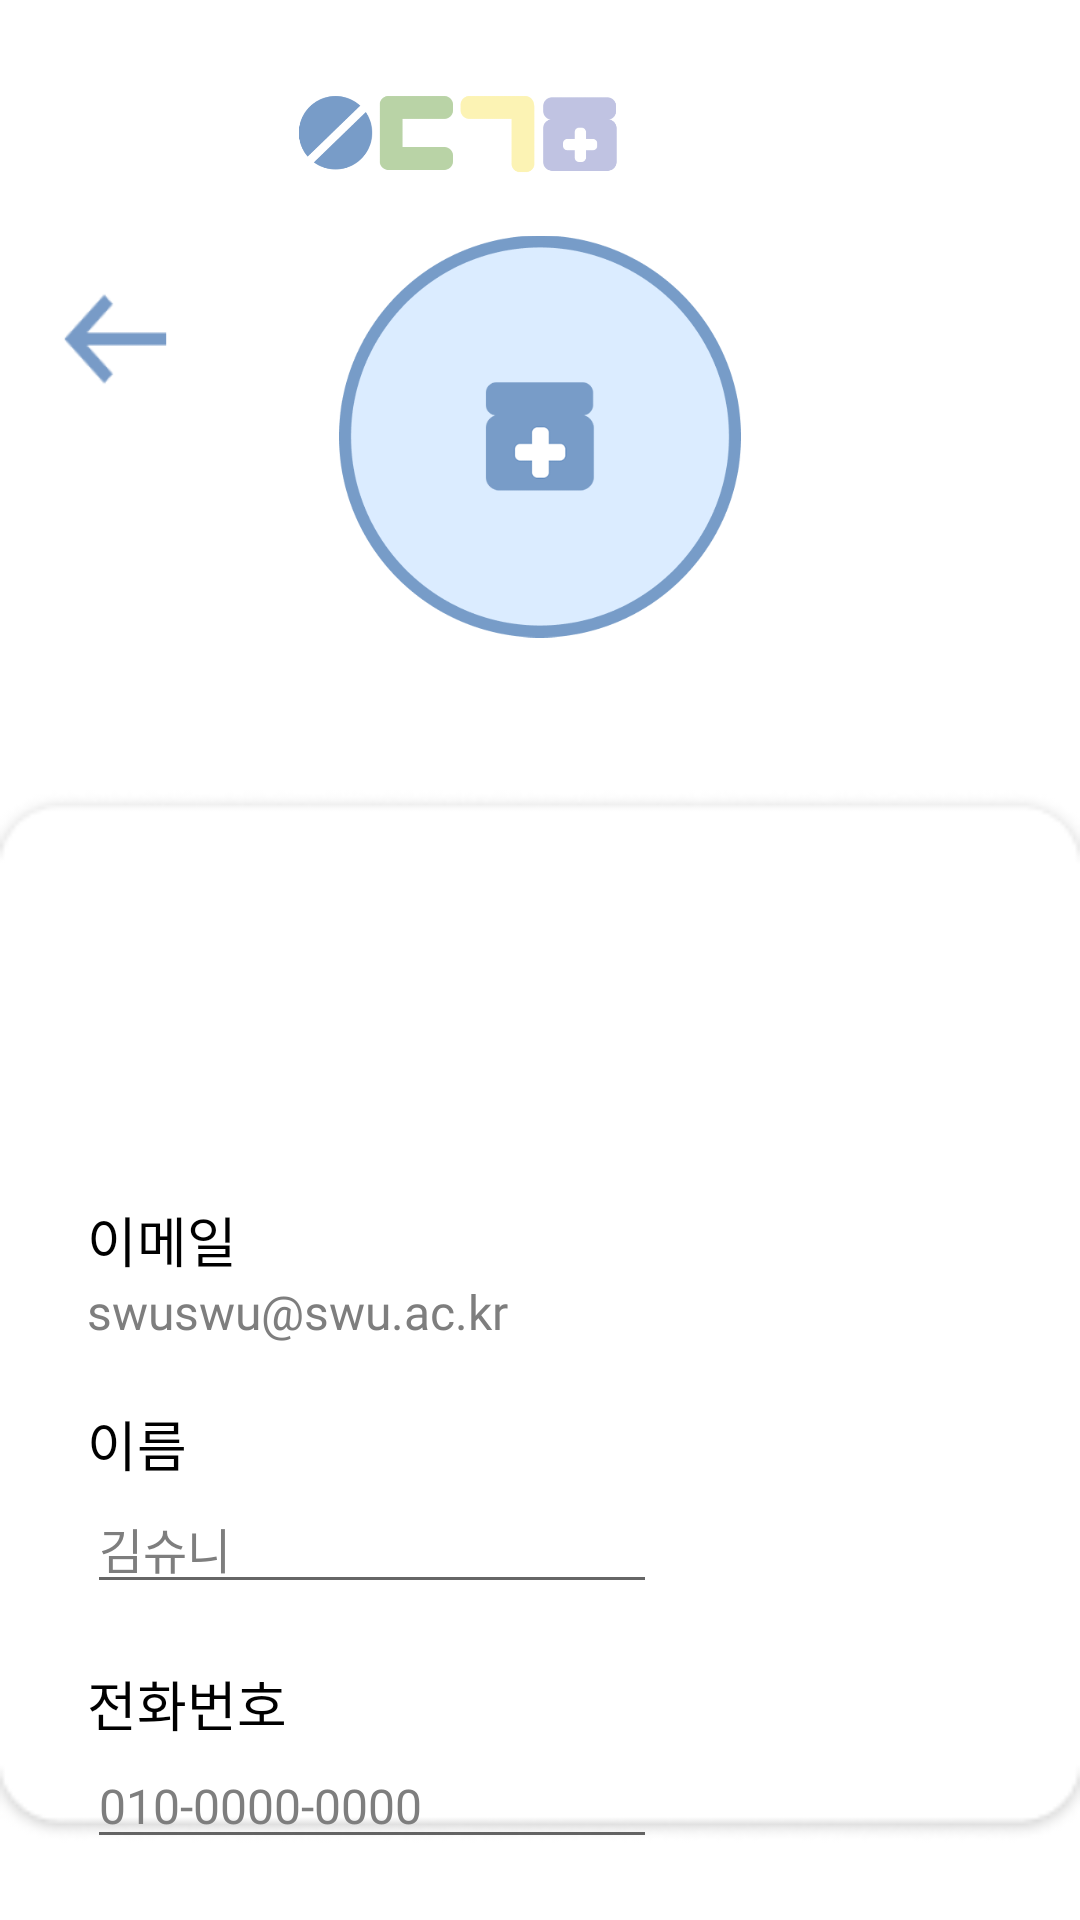

Icon click points for this 1080 × 1920 phone screenshot, format (x,y):
backicon: (116,339)
